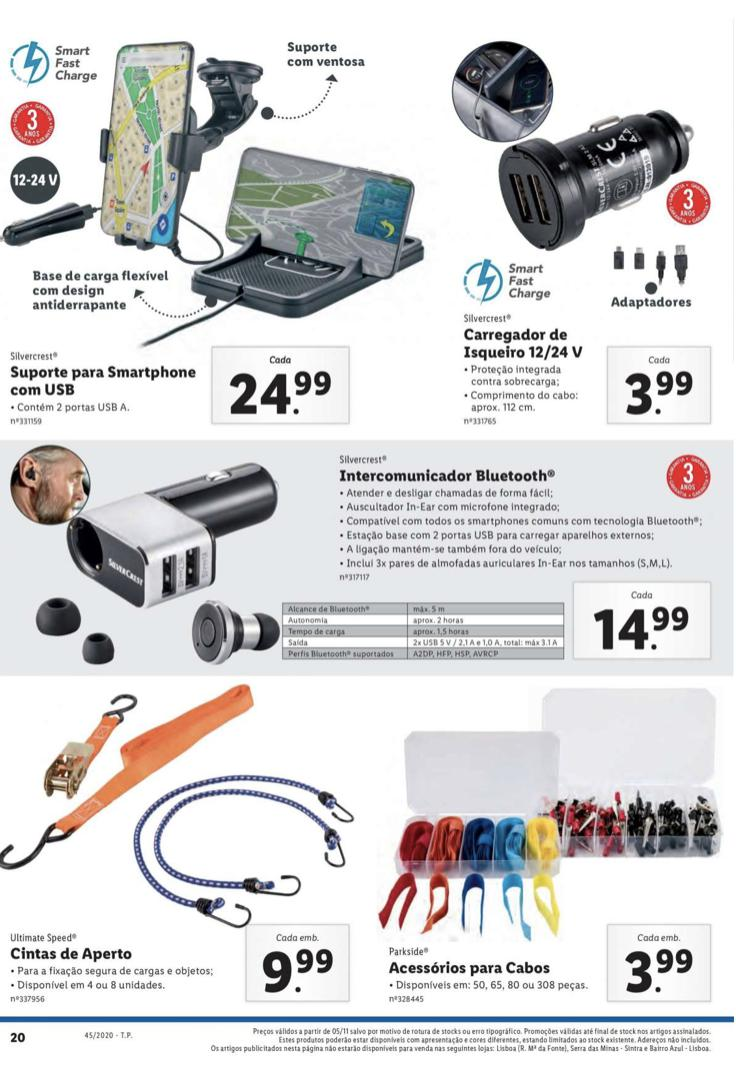name: (7, 362, 199, 397), (333, 464, 561, 488), (457, 322, 590, 363), (383, 957, 553, 980), (7, 942, 139, 967)
price: (224, 366, 337, 420), (594, 600, 693, 653), (619, 368, 699, 417), (257, 949, 339, 995), (622, 947, 695, 997)
product: (3, 30, 439, 449), (1, 442, 730, 675), (355, 687, 726, 1014), (6, 683, 355, 1014), (444, 35, 728, 432)
